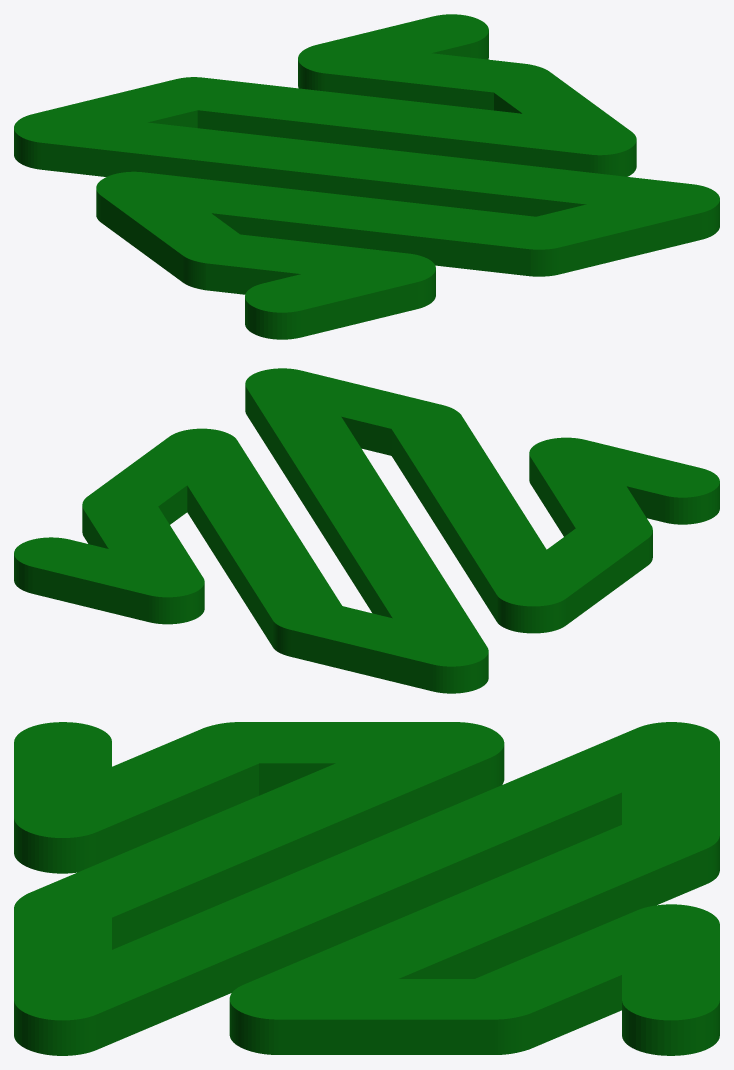
The model's file is ffmpeg.glb.
The picture shows the model from 3 angles, top to bottom: view 1: azimuth 30°, elevation 25°; view 2: azimuth 150°, elevation 25°; view 3: azimuth 270°, elevation 25°; orthographic projection. The views are drawn at different scales.
Visible parts, largest first — view 1: icons8-ffmpeg-480.svg; view 2: icons8-ffmpeg-480.svg; view 3: icons8-ffmpeg-480.svg.
Part boxes in pixels (box(x1,y1,x2,y2)): icons8-ffmpeg-480.svg: box(14, 14, 719, 339); icons8-ffmpeg-480.svg: box(14, 368, 719, 693); icons8-ffmpeg-480.svg: box(14, 722, 719, 1055).
Bounding box in the file's own units: 3.96 × 0.22 × 3.96.
